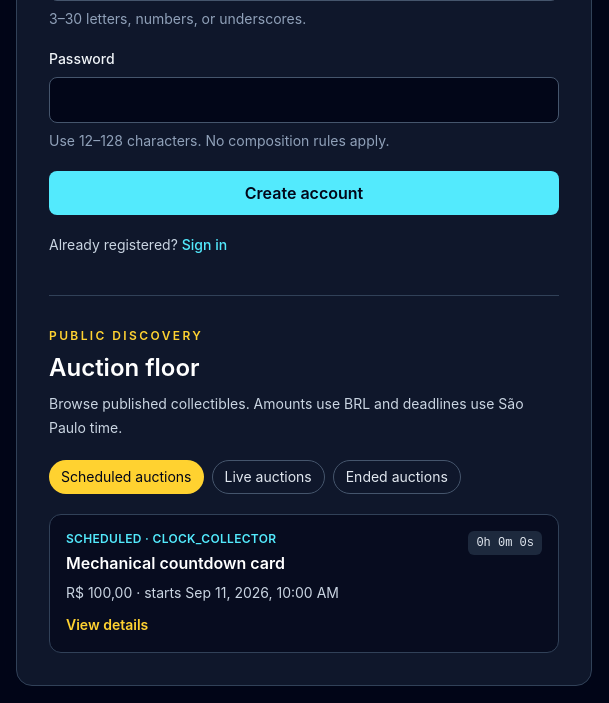
App › anonymous visitor browses localized auction details and safe timeline
(page scrolled)
Expected: the heading "Auction floor" is shown, x1=49 y1=353 x2=200 y2=382
Expected: the heading "Mechanical countdown card" is shown, x1=66 y1=553 x2=285 y2=573
Click the button with aria-label "View Mechanical countdown card" at [107, 625], box x1=66 y1=615 x2=148 y2=635
(page scrolled)
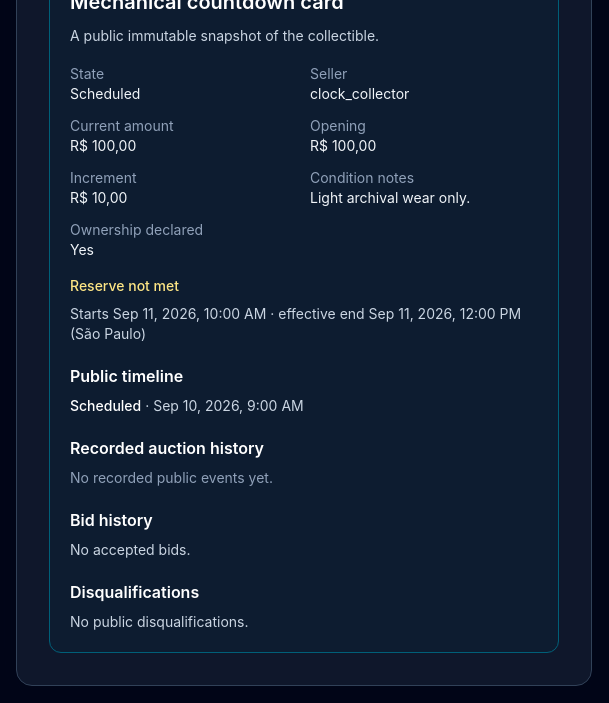
Expected: the text "A public immutable snapshot of the collectible." is shown, x1=70 y1=27 x2=379 y2=44
Expected: the text "Reserve not met" is shown, x1=70 y1=277 x2=179 y2=294
Expected: the text "Light archival wear only." is shown, x1=310 y1=189 x2=470 y2=206
